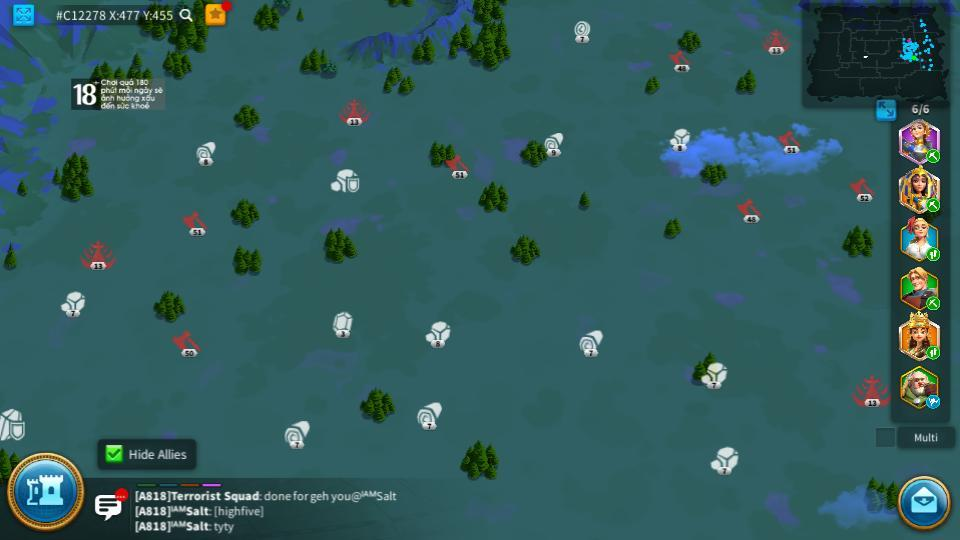gem-z-out: (331, 312, 354, 337)
march_idle: (925, 396, 942, 408)
march_marching: (925, 345, 941, 359), (925, 199, 941, 212), (925, 297, 942, 308), (925, 151, 941, 162), (925, 250, 941, 261)
